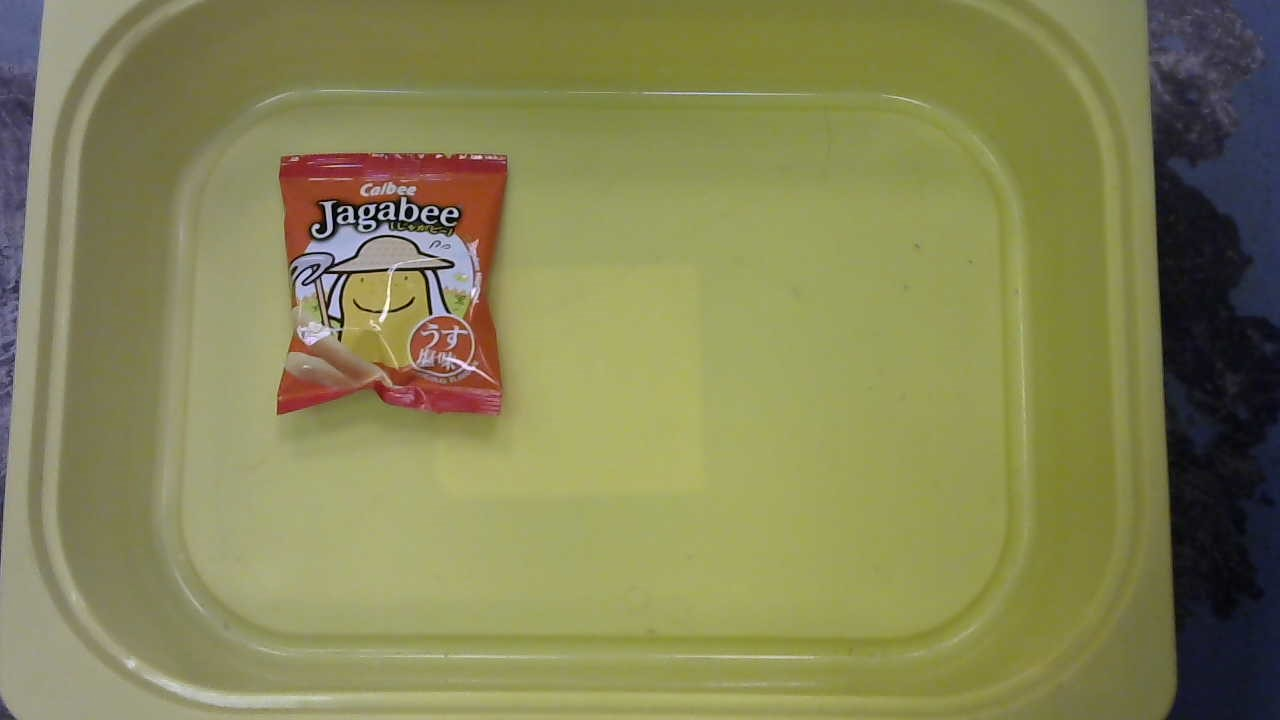JagabeeFarmer: (263, 145, 511, 426)
